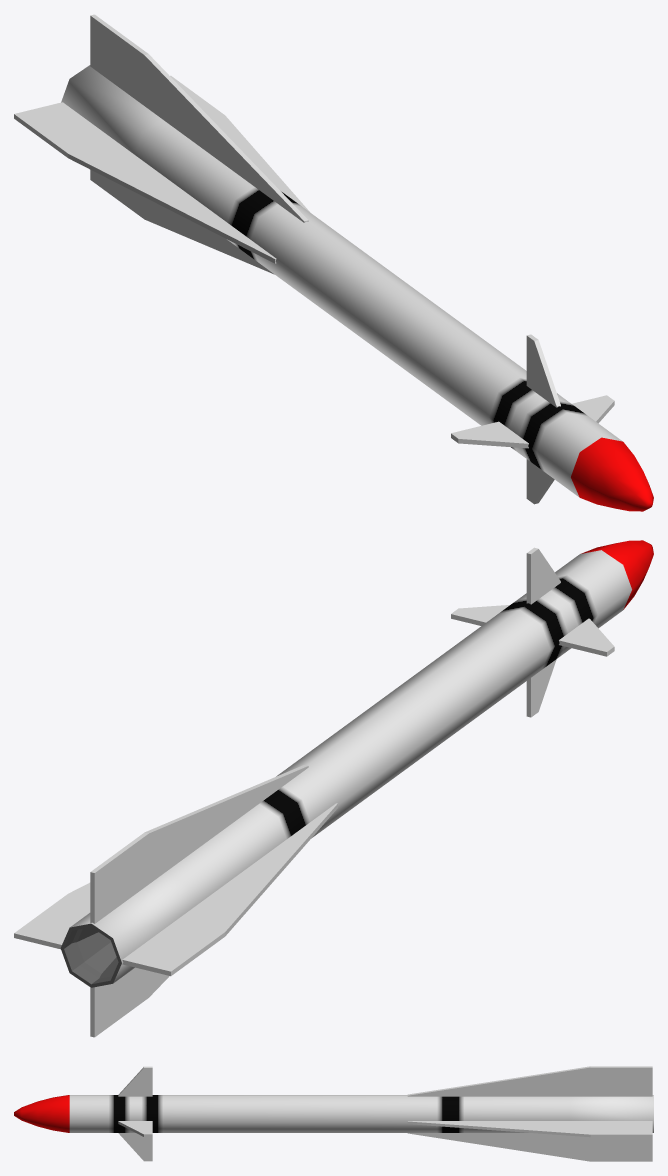
File: Missile.fbx
3 views of the same model, one above another, from view 1: azimuth 30°, elevation 25°; view 2: azimuth 150°, elevation 25°; view 3: azimuth 270°, elevation 25° (orthographic). The views are drawn at different scales.
Parts seen in each view (by area): view 1: MissileBody; view 2: MissileBody; view 3: MissileBody.
Part boxes in pixels (bbox=[...]): MissileBody: bbox=[14, 14, 653, 511]; MissileBody: bbox=[14, 540, 653, 1037]; MissileBody: bbox=[14, 1066, 653, 1161].
Size of the model in its own units: 167 by 167 by 1031.
1 material, 1 textured.
